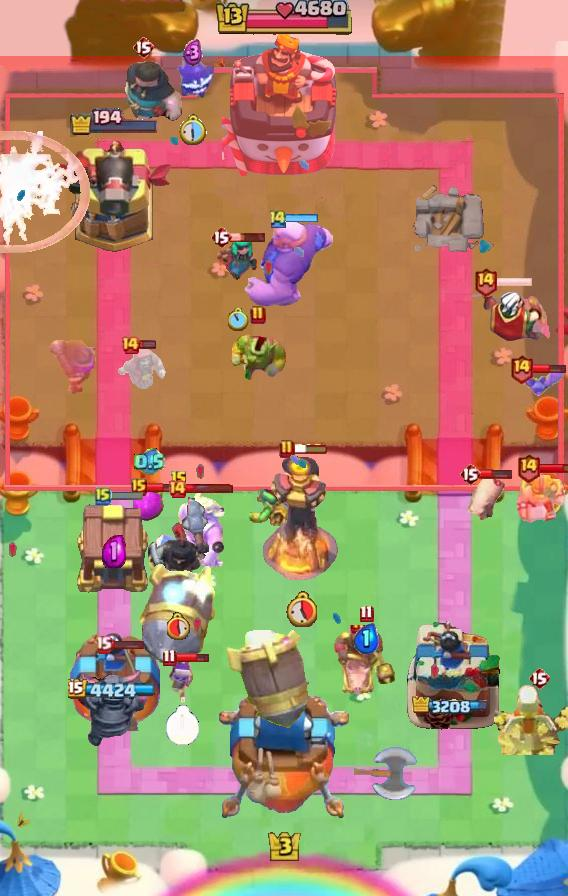balloon: (242, 217, 336, 309)
barbarian: (509, 367, 567, 397)
barbarian-evolution: (1, 131, 91, 253)
bomb: (74, 501, 154, 595)
bomb-tower: (47, 337, 99, 397)
bowler: (116, 345, 168, 399)
clock: (213, 0, 355, 38)
electro-dragon: (262, 454, 340, 580)
electro-spirit: (135, 448, 166, 476), (353, 623, 379, 654), (102, 535, 126, 568), (183, 39, 203, 67)
elixir: (165, 706, 200, 747), (287, 591, 317, 627), (179, 114, 208, 146), (167, 612, 191, 640), (227, 308, 248, 332)
emote: (184, 483, 234, 494), (174, 651, 210, 665), (230, 231, 267, 243), (496, 276, 533, 288), (293, 443, 329, 455), (110, 638, 146, 650), (531, 362, 567, 373), (479, 468, 512, 480), (145, 483, 181, 494), (108, 490, 144, 501), (286, 213, 320, 224), (540, 462, 568, 474), (138, 339, 157, 350)
flying-machine: (228, 328, 288, 382)
freeze: (332, 625, 400, 699)
giant: (462, 472, 508, 524)
giant-snowball: (244, 485, 292, 527)
goblin: (167, 659, 197, 705)
goblin-giant: (514, 472, 568, 524)
goblin-hut: (152, 491, 230, 573)
golemite: (74, 644, 152, 748)
inferno-dragon: (146, 495, 212, 601)
king-tower: (222, 31, 346, 181), (219, 692, 349, 826)
miner: (133, 491, 165, 521)
poison: (480, 681, 568, 755)
queen-tower: (404, 617, 502, 731), (68, 633, 160, 731)
royal-giant: (354, 746, 420, 802)
royal-hog: (102, 59, 184, 125)
selected: (68, 108, 159, 136), (68, 678, 160, 701), (412, 696, 494, 718)
skeleton-king: (457, 278, 553, 346)
spear-goblin: (171, 54, 215, 102)
text: (474, 266, 499, 297), (509, 352, 534, 383), (515, 452, 540, 483), (132, 35, 154, 59), (210, 225, 232, 249), (459, 462, 481, 486), (528, 666, 550, 690), (268, 208, 288, 229), (120, 335, 140, 355), (167, 479, 187, 499), (170, 470, 188, 490), (250, 305, 266, 325), (279, 439, 295, 459), (95, 486, 111, 506), (96, 635, 113, 653), (131, 478, 147, 496), (163, 649, 178, 667), (359, 605, 373, 623)
tower-bar: (53, 138, 175, 256)
witch: (216, 233, 260, 283)
x-bow: (225, 631, 311, 730), (138, 562, 217, 666)
